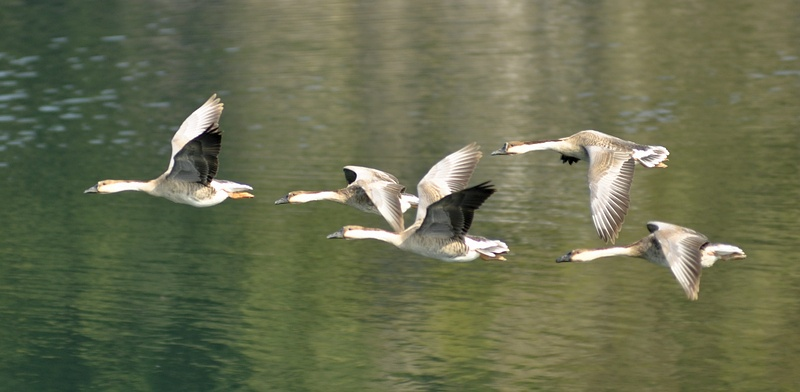bird: (72, 90, 260, 206), (486, 127, 669, 244), (321, 168, 504, 267), (551, 221, 745, 301), (276, 149, 473, 216)
